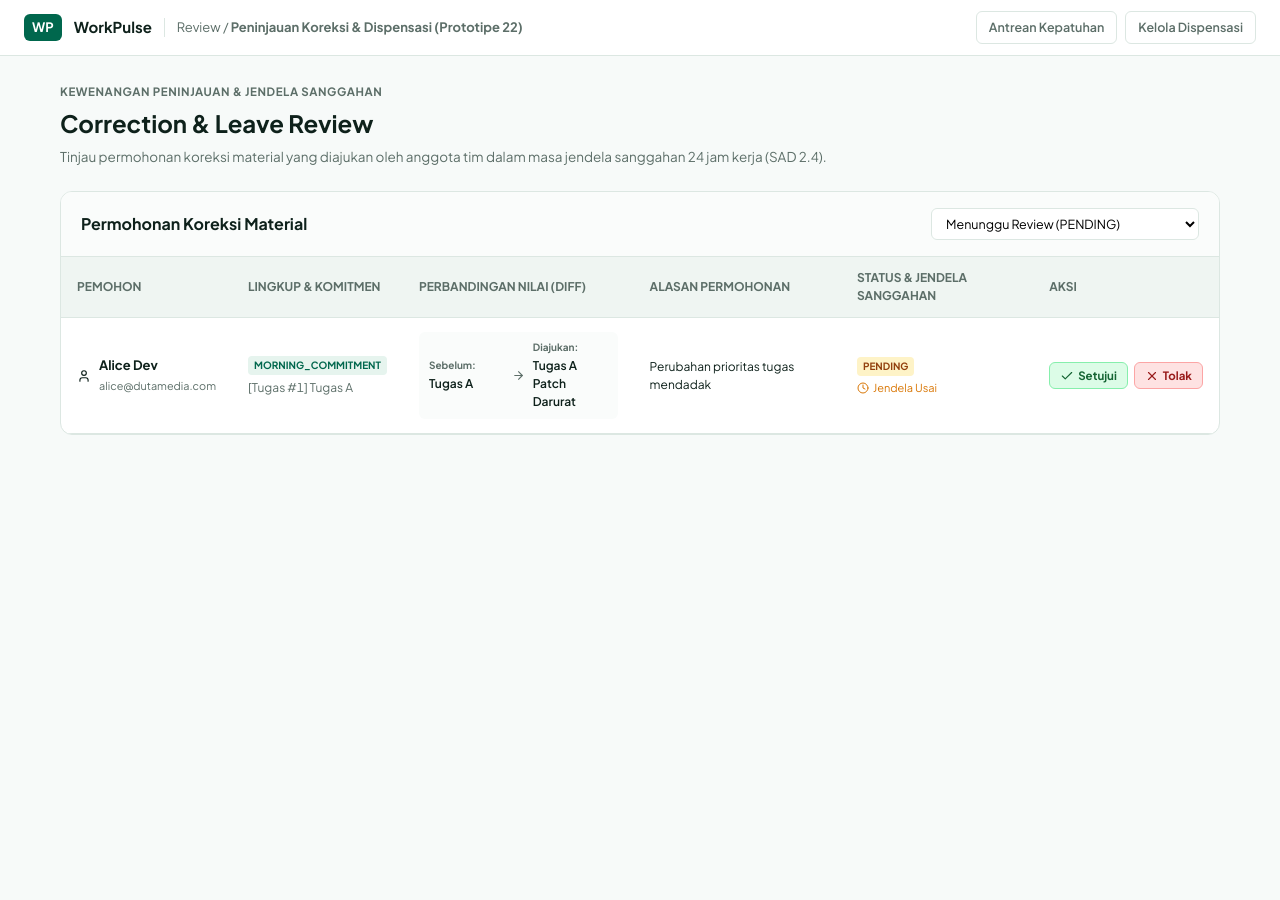
Test: CorrectionReviewView.vue (WP-EP09 / Prototipe 22 - Review Koreksi & Jendela Sanggahan) › opens review confirmation modal when Setujui is clicked
Step 1. Click the button with class "approve" → (1089, 376), box [1049,362,1128,389]
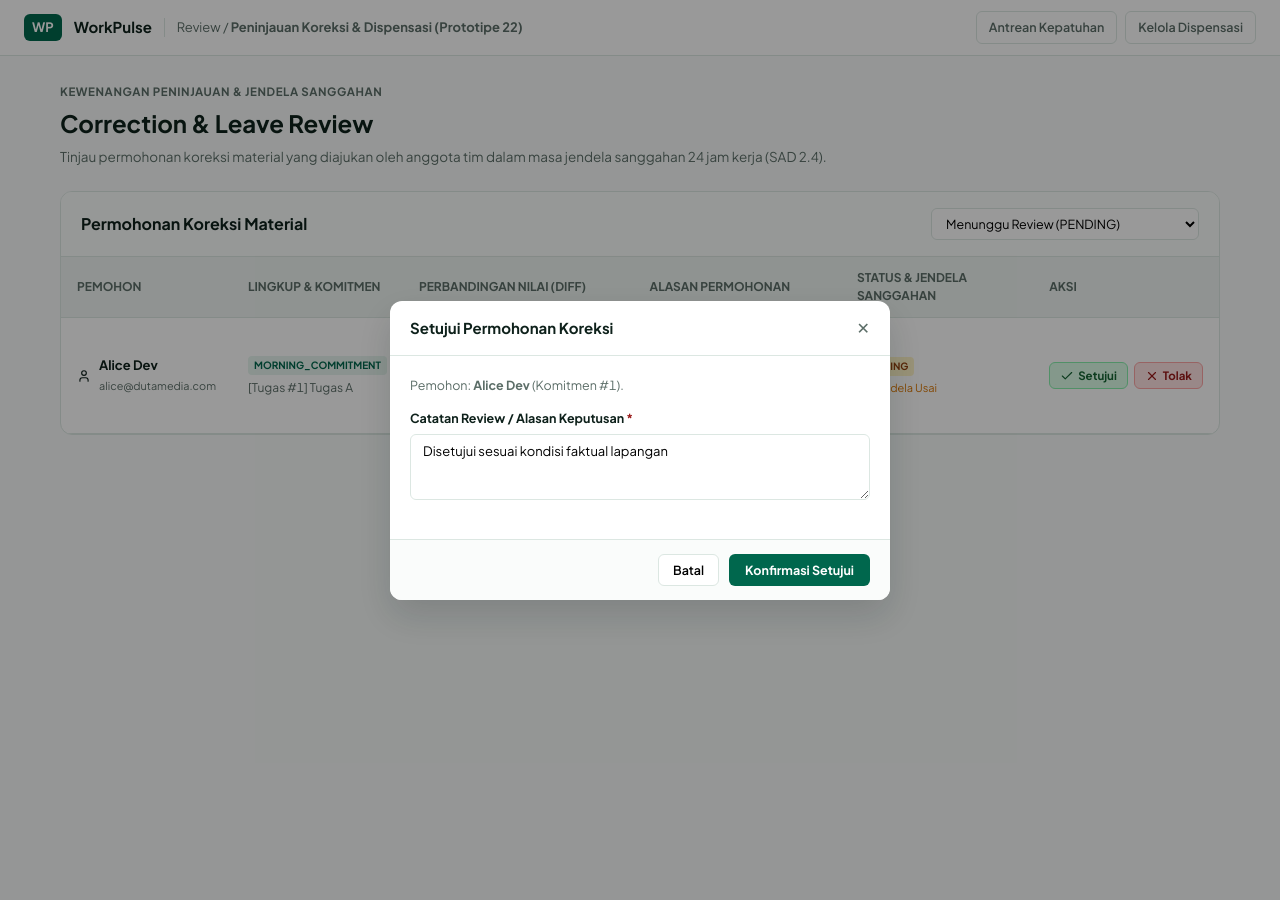
Expected: the text "Setujui Permohonan Koreksi" is shown, [410,316,613,339]
